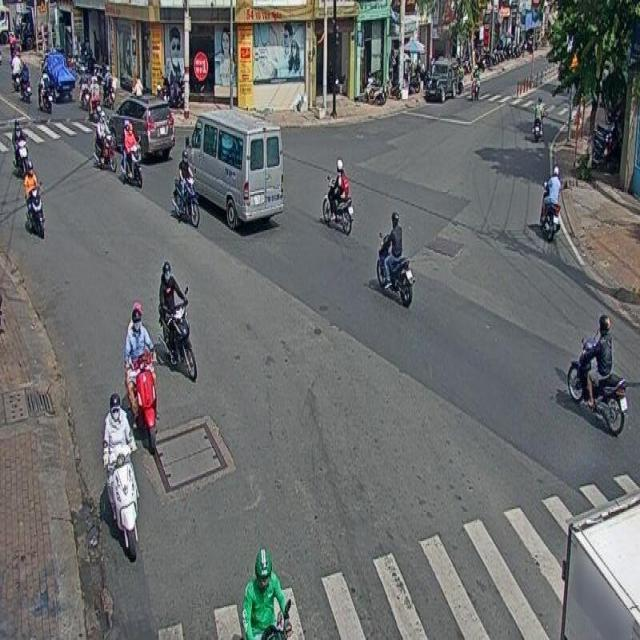car: (108, 96, 175, 155)
motorcycle: (566, 314, 627, 436), (102, 392, 138, 562), (158, 259, 196, 381), (126, 302, 156, 454), (375, 210, 414, 308), (322, 157, 352, 235), (171, 146, 200, 224), (22, 160, 44, 239), (120, 120, 143, 189), (540, 165, 560, 242)
truck: (188, 111, 284, 227)
